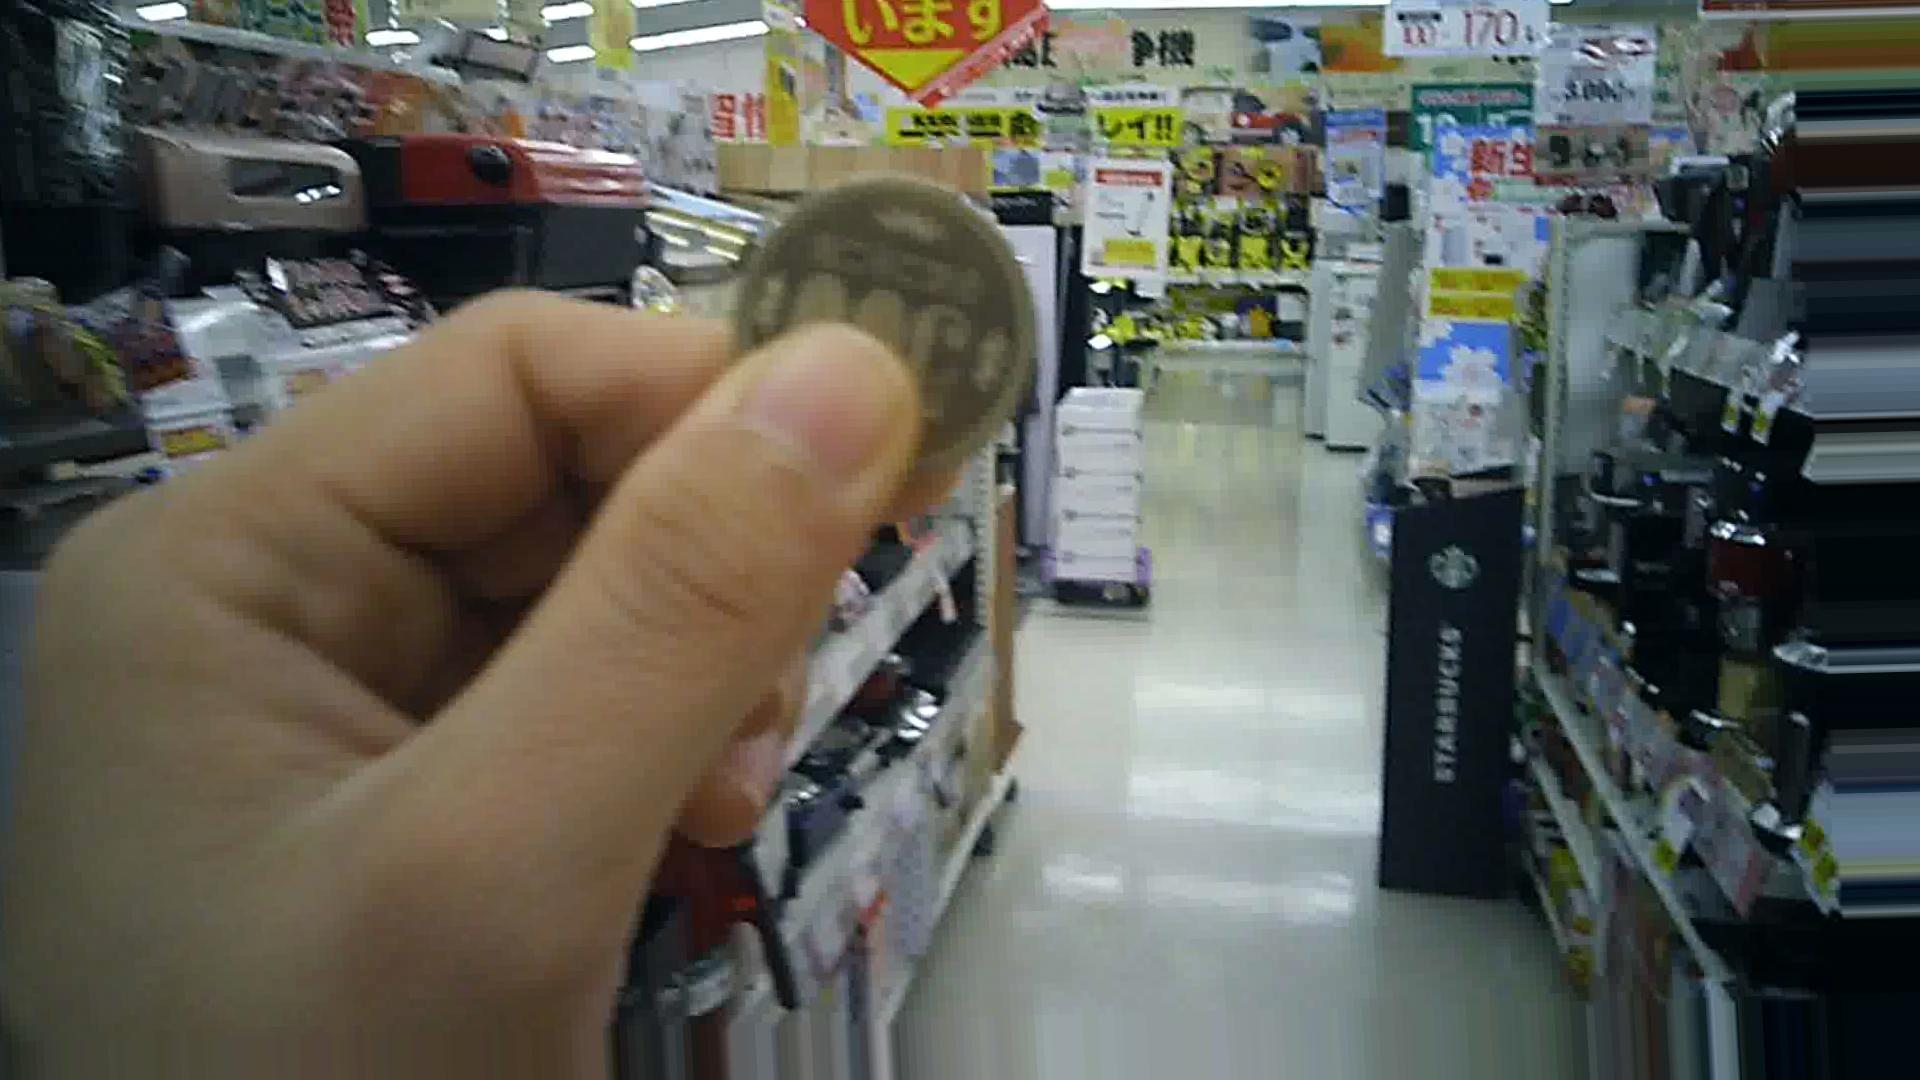500 Yen: (737, 165, 1014, 471)
